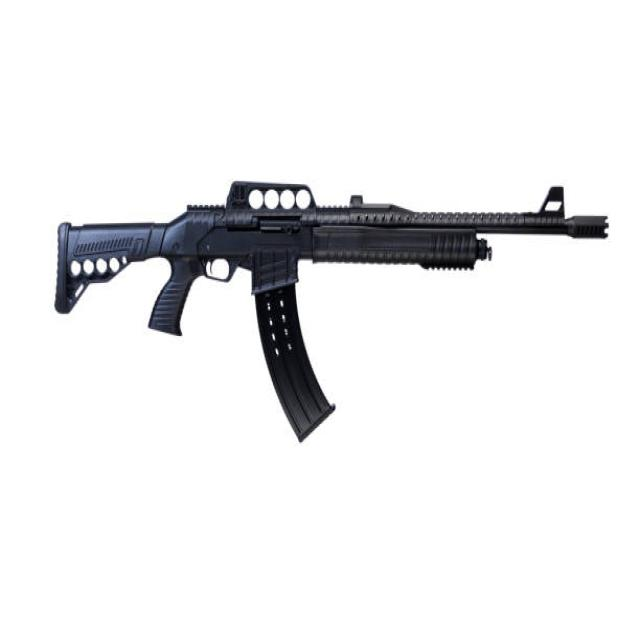rifle: (55, 165, 610, 454)
